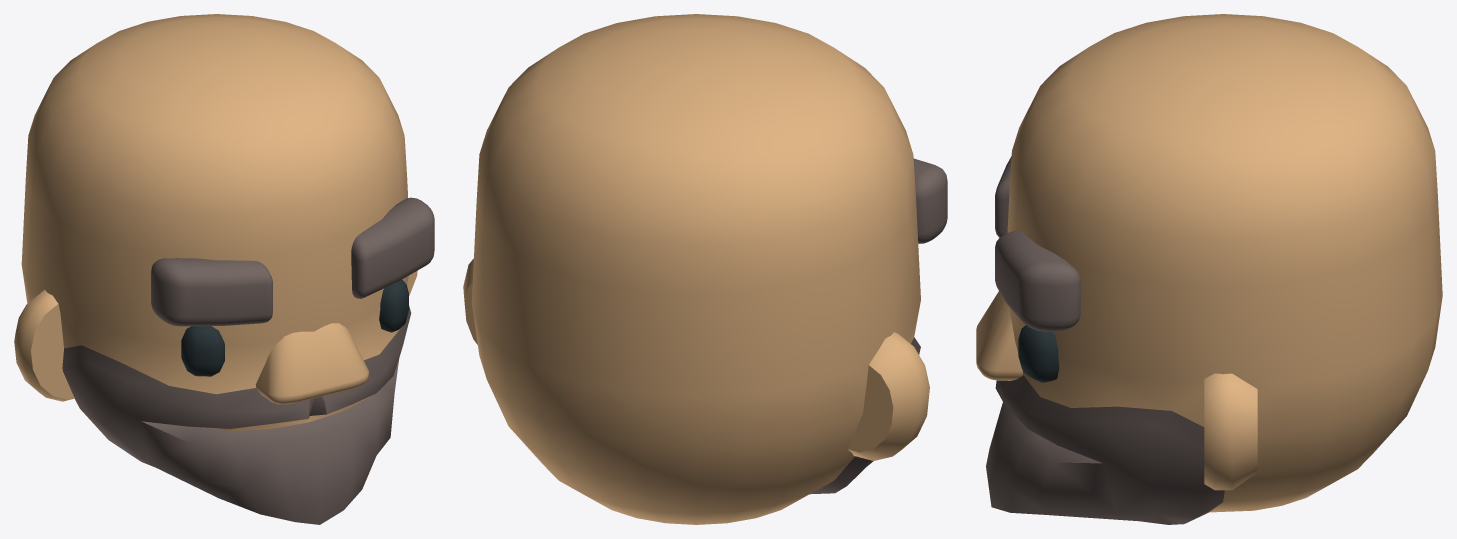
Rendered from barbarianHeadC.dae.
3 views of the same model, side by side, from view 1: azimuth 30°, elevation 25°; view 2: azimuth 150°, elevation 25°; view 3: azimuth 270°, elevation 25° (orthographic). The views are drawn at different scales.
Visible parts, largest first — view 1: barbarianHeadC; view 2: barbarianHeadC; view 3: barbarianHeadC.
Boxes of the visible parts, left/top/right/bottom form: barbarianHeadC: left=14, top=14, right=434, bottom=524; barbarianHeadC: left=463, top=14, right=947, bottom=524; barbarianHeadC: left=976, top=14, right=1442, bottom=524.
Size of the model in its own units: 1.18 by 1.06 by 1.14.
